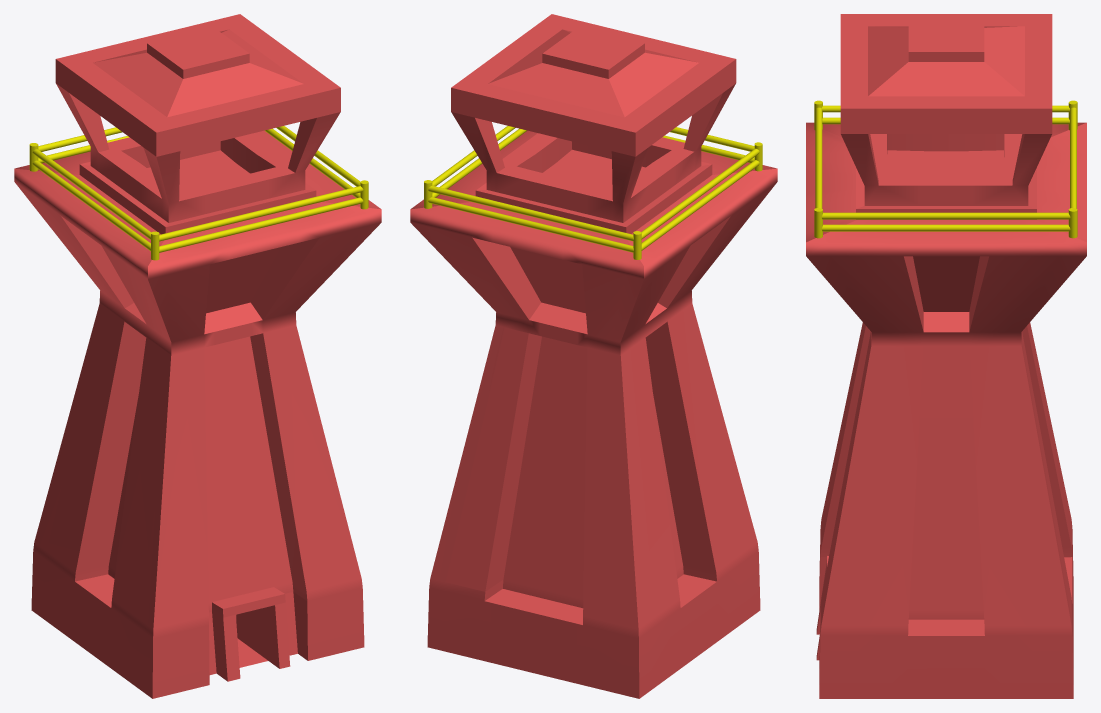
The model's file is Watchtower2_lowpoly_wip1 (1).fbx.
3 renders of one model, left to right at view 1: azimuth 30°, elevation 25°; view 2: azimuth 150°, elevation 25°; view 3: azimuth 270°, elevation 25°, orthographic. The views are drawn at different scales.
Visible parts, largest first — view 1: watchtower2_lowpolywip1; view 2: watchtower2_lowpolywip1; view 3: watchtower2_lowpolywip1.
Boxes of the visible parts, left/top/right/bottom form: watchtower2_lowpolywip1: left=14, top=14, right=381, bottom=698; watchtower2_lowpolywip1: left=410, top=14, right=777, bottom=698; watchtower2_lowpolywip1: left=806, top=14, right=1086, bottom=698.
Bounding box in the file's own units: 867 × 2055 × 858.
